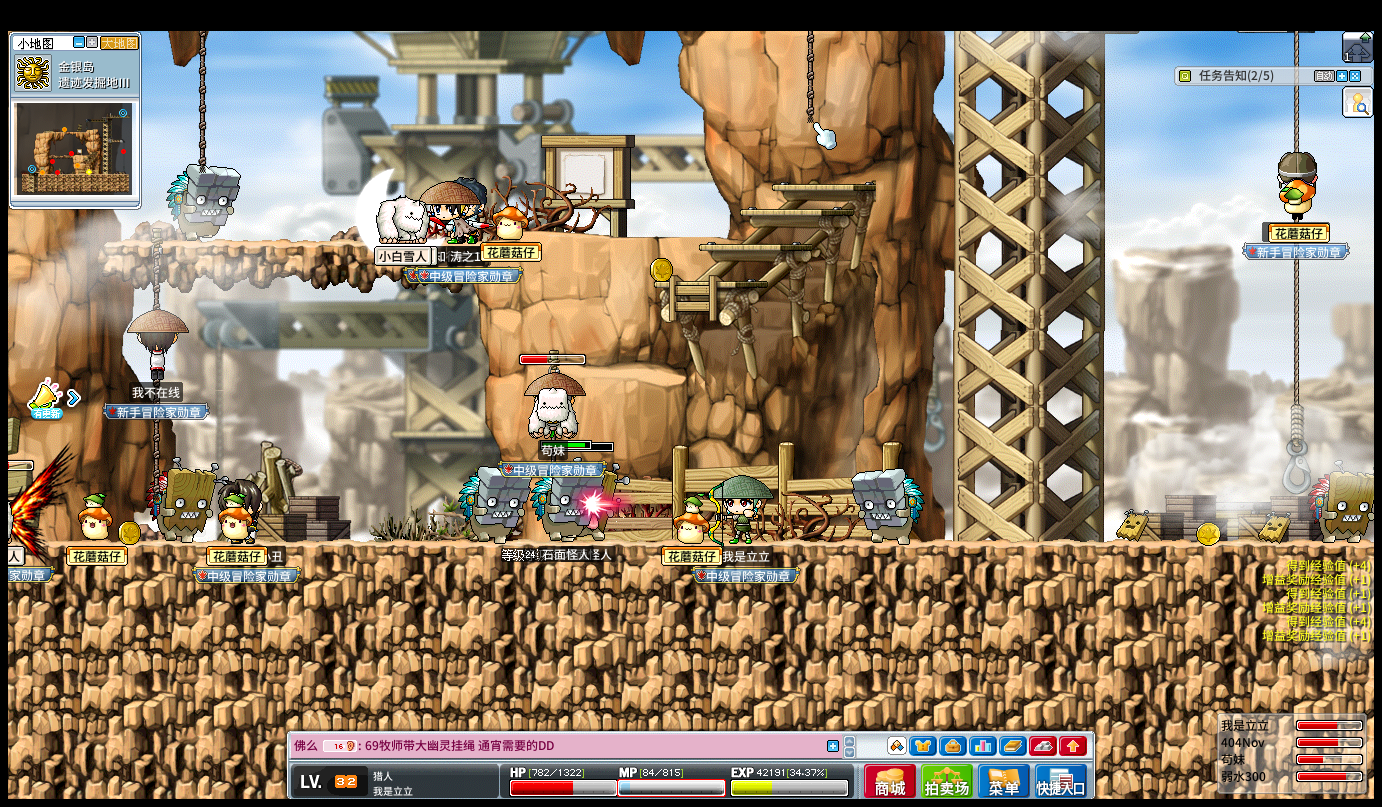floor: (108, 238, 480, 249), (580, 364, 688, 385), (586, 232, 735, 240), (649, 278, 766, 287), (696, 243, 810, 251), (736, 207, 849, 215), (771, 183, 875, 191)
monster: (146, 458, 222, 542), (164, 163, 241, 241), (1307, 464, 1376, 542), (852, 468, 923, 543), (456, 466, 523, 542), (531, 466, 586, 540)
rope: (1291, 257, 1302, 409), (198, 28, 207, 169), (150, 230, 162, 310), (804, 29, 814, 123), (1292, 29, 1299, 148), (152, 418, 164, 480), (1288, 403, 1304, 445), (150, 418, 159, 480)
